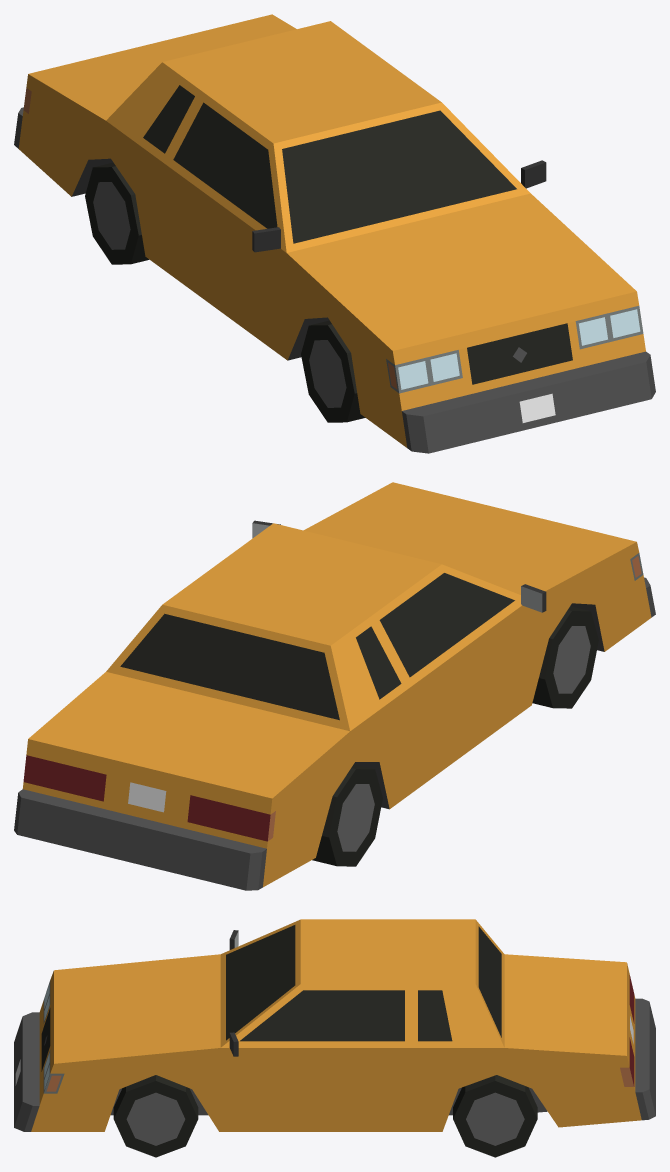
File: Veh_Coupe_03_Yellow.obj
The picture shows the model from 3 angles, top to bottom: view 1: azimuth 30°, elevation 25°; view 2: azimuth 150°, elevation 25°; view 3: azimuth 270°, elevation 25°; orthographic projection. The views are drawn at different scales.
Bounding box in the file's own units: 1.14 × 0.7543 × 2.76.
